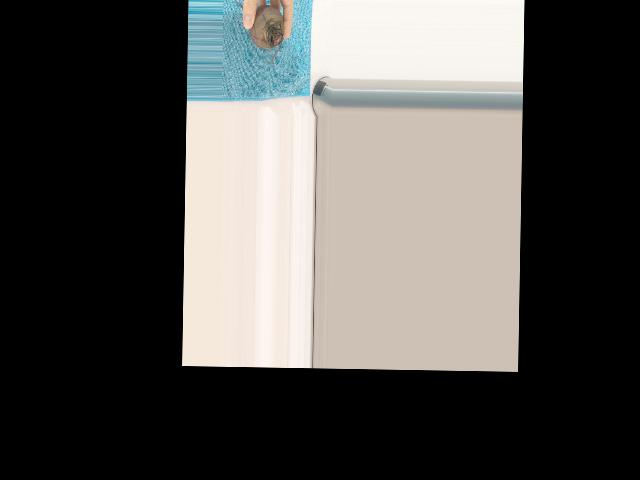beet: (233, 1, 284, 63)
